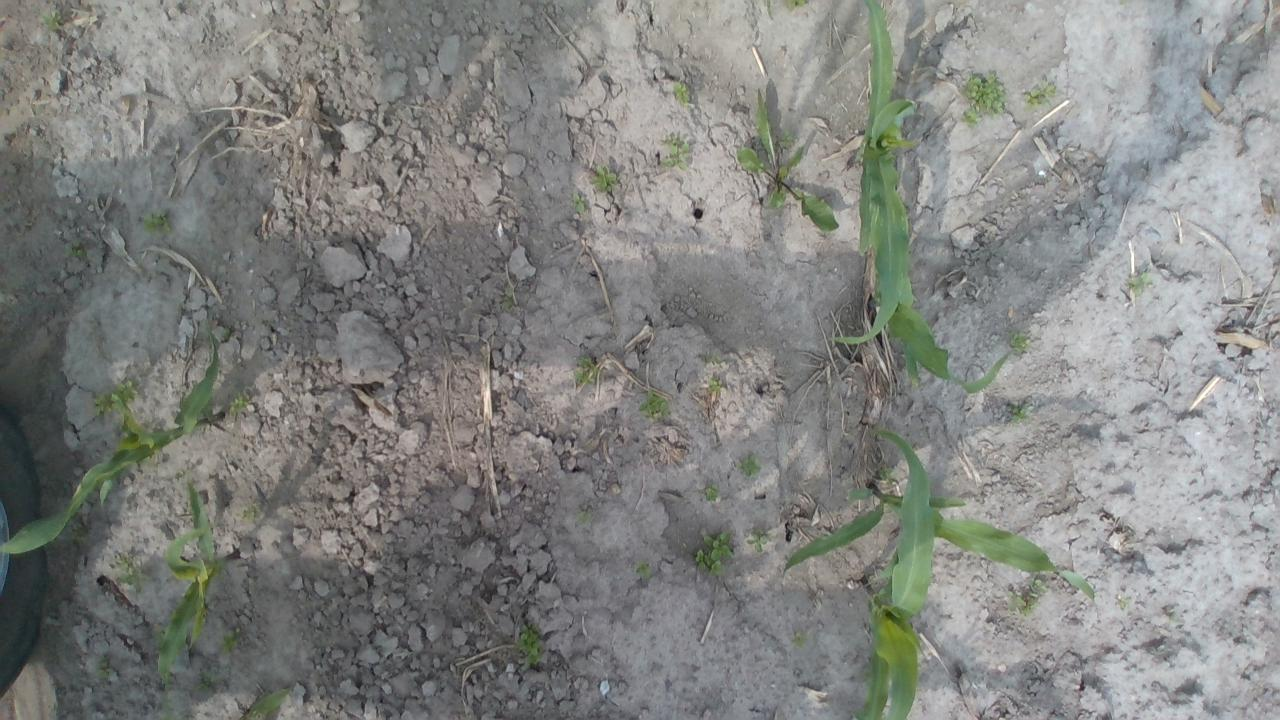Maize: (828, 1, 1013, 403), (0, 323, 227, 558), (774, 480, 1108, 624), (862, 428, 944, 718), (156, 474, 245, 682)
Weeds: (734, 90, 840, 232), (1008, 574, 1064, 620), (962, 72, 1004, 122), (694, 534, 736, 574), (92, 378, 134, 416), (1022, 78, 1058, 109), (514, 626, 542, 662), (138, 207, 174, 233), (116, 559, 145, 591), (662, 137, 690, 169), (1128, 268, 1152, 296), (575, 356, 595, 389), (230, 386, 247, 421), (639, 393, 663, 417), (592, 166, 614, 192), (38, 10, 62, 32), (220, 626, 240, 652), (240, 502, 258, 530), (741, 456, 760, 480), (100, 661, 120, 683), (748, 534, 778, 548), (1011, 400, 1030, 422), (672, 82, 690, 105), (64, 236, 84, 255), (1011, 334, 1026, 357), (702, 486, 722, 503), (571, 189, 585, 211), (794, 634, 812, 651), (706, 356, 730, 368), (636, 562, 652, 578), (198, 674, 216, 687), (710, 378, 720, 390)
